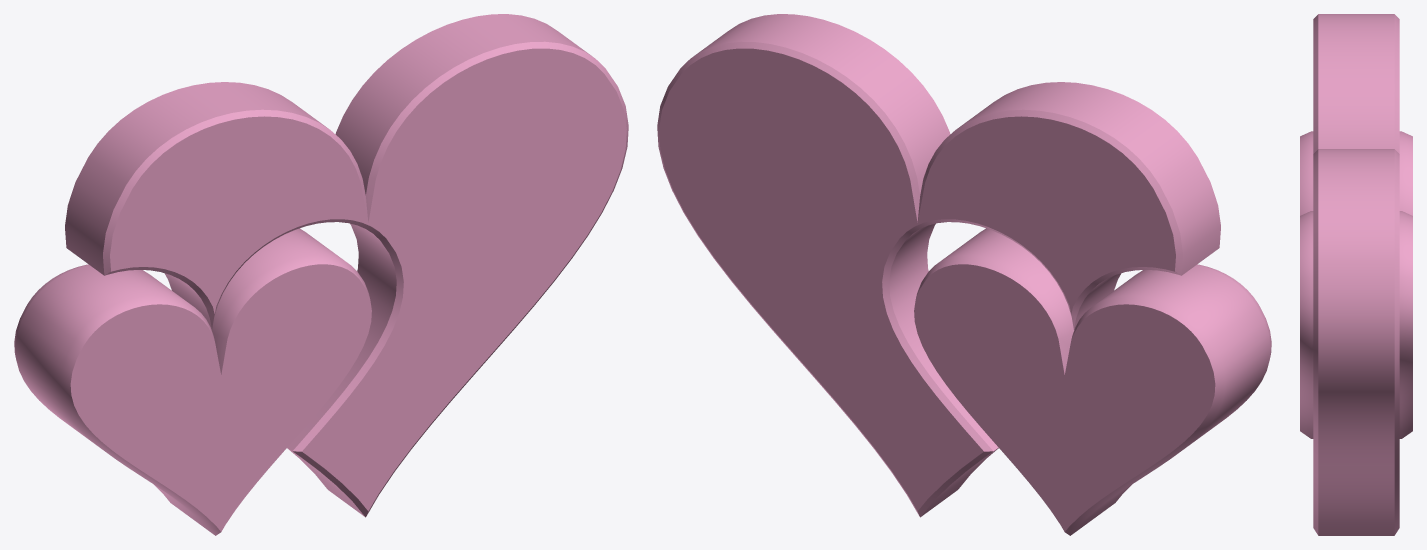
The model's file is heart13 two.fbx.
The picture shows the model from 3 angles, left to right: view 1: azimuth 30°, elevation 25°; view 2: azimuth 150°, elevation 25°; view 3: azimuth 270°, elevation 25°; orthographic projection.
Visible parts, largest first — view 1: Heart 13; view 2: Heart 13; view 3: Heart 13.
Boxes of the visible parts, box(x1,y1,x2,y2) form: Heart 13: box(14, 14, 628, 535); Heart 13: box(657, 14, 1271, 535); Heart 13: box(1300, 14, 1412, 535).
Bounding box in the file's own units: 6.12 × 4.47 × 1.05.
